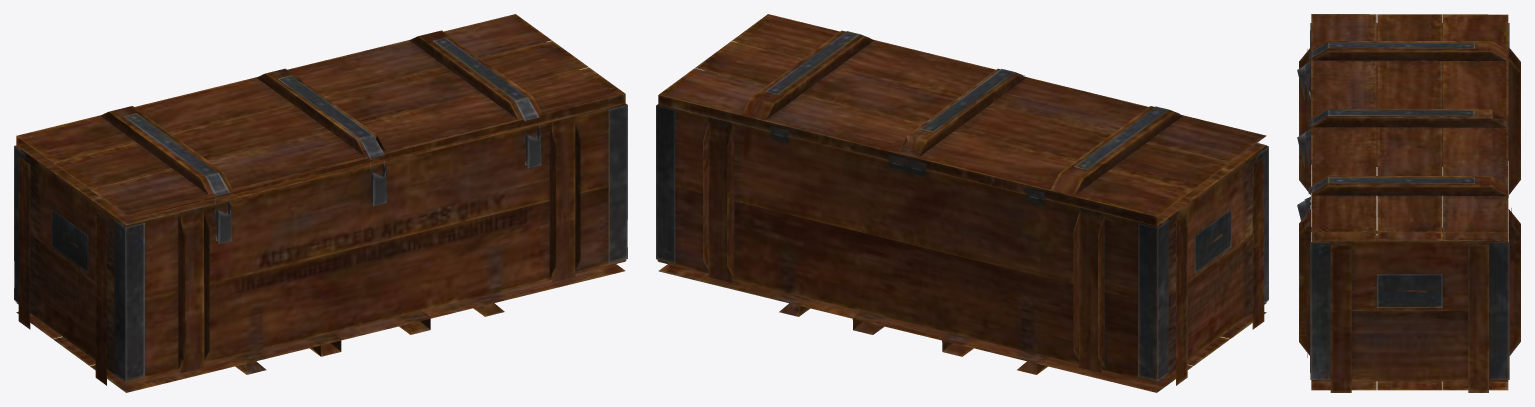
The model's file is wooden_military_crate.glb.
3 renders of one model, left to right at view 1: azimuth 30°, elevation 25°; view 2: azimuth 150°, elevation 25°; view 3: azimuth 270°, elevation 25°, orthographic. The views are drawn at different scales.
Parts seen in each view (by area): view 1: wooden_military_crate, wooden_military_crate_lid; view 2: wooden_military_crate, wooden_military_crate_lid; view 3: wooden_military_crate_lid, wooden_military_crate.
Part boxes in pixels (bbox=[...]): wooden_military_crate: bbox=[14, 42, 627, 392]; wooden_military_crate_lid: bbox=[16, 14, 625, 225]; wooden_military_crate: bbox=[656, 42, 1268, 392]; wooden_military_crate_lid: bbox=[658, 14, 1266, 226]; wooden_military_crate_lid: bbox=[1308, 14, 1509, 240]; wooden_military_crate: bbox=[1297, 23, 1520, 392].
Size of the model in its own units: 1.24 by 0.4593 by 0.5209.
1 material, 1 textured.
